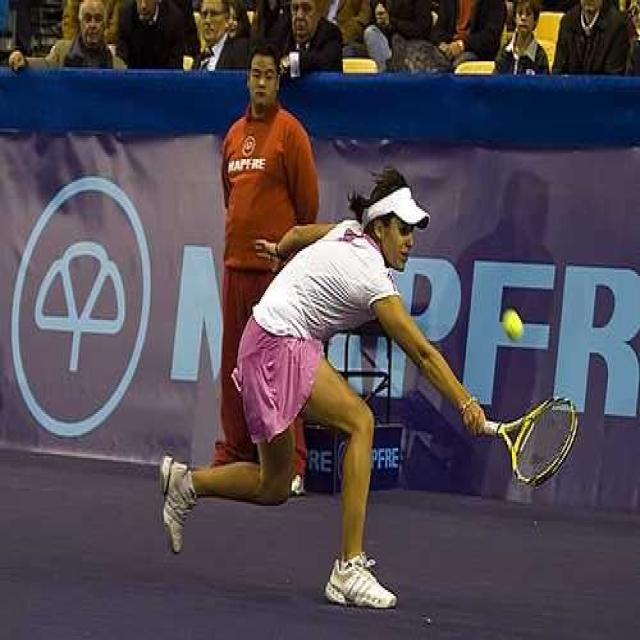Tennis_Ball: (501, 308, 525, 339)
